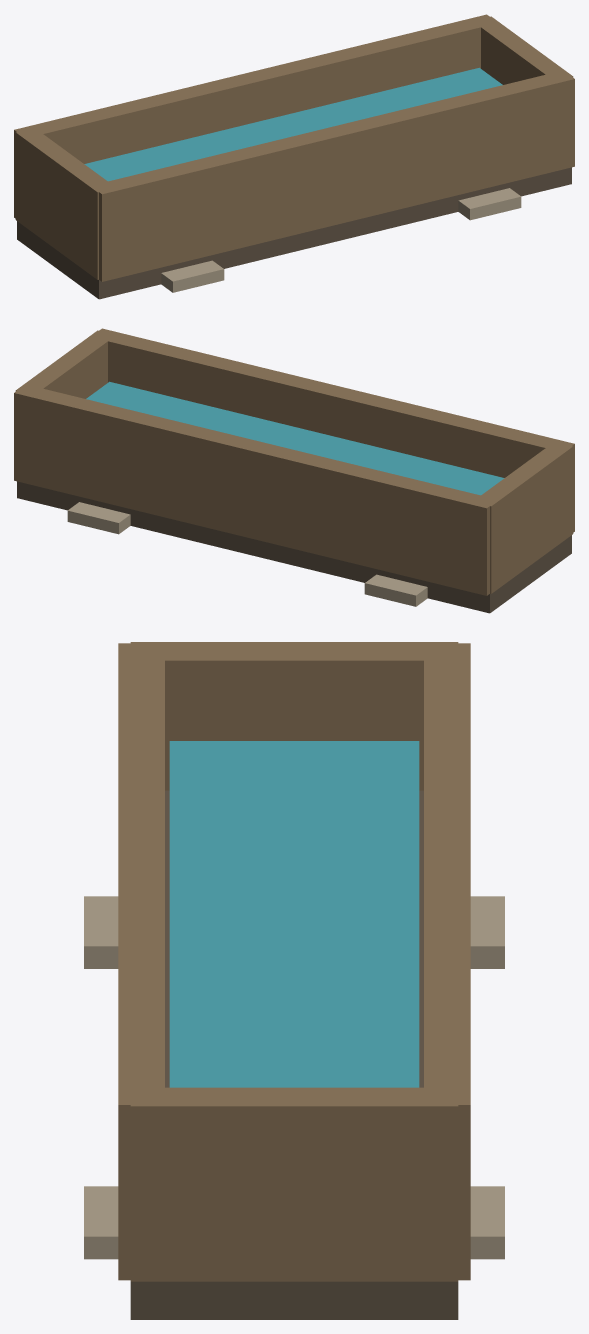
File: Decor_WaterTrough.fbx
The picture shows the model from 3 angles, top to bottom: view 1: azimuth 30°, elevation 25°; view 2: azimuth 150°, elevation 25°; view 3: azimuth 270°, elevation 25°; orthographic projection. The views are drawn at different scales.
Visible parts, largest first — view 1: Decor_WaterTrough; view 2: Decor_WaterTrough; view 3: Decor_WaterTrough.
Boxes of the visible parts, x1,y1,x2,y2 form: Decor_WaterTrough: (14, 14, 574, 299); Decor_WaterTrough: (14, 328, 574, 613); Decor_WaterTrough: (84, 642, 504, 1319).
Size of the model in its own units: 3.52 by 0.76 by 1.35.
